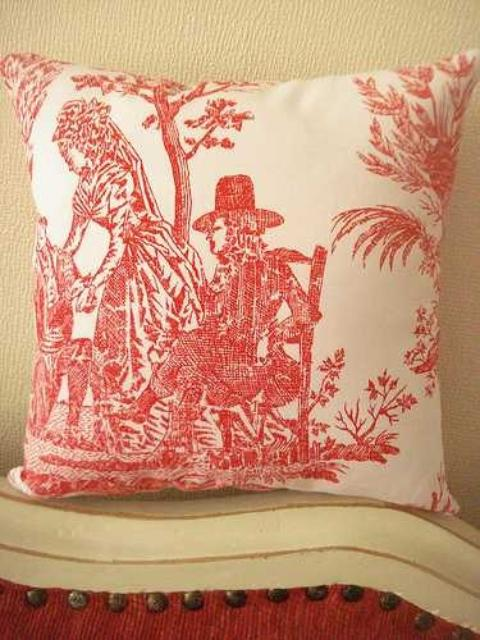pillow: (0, 47, 478, 516)
